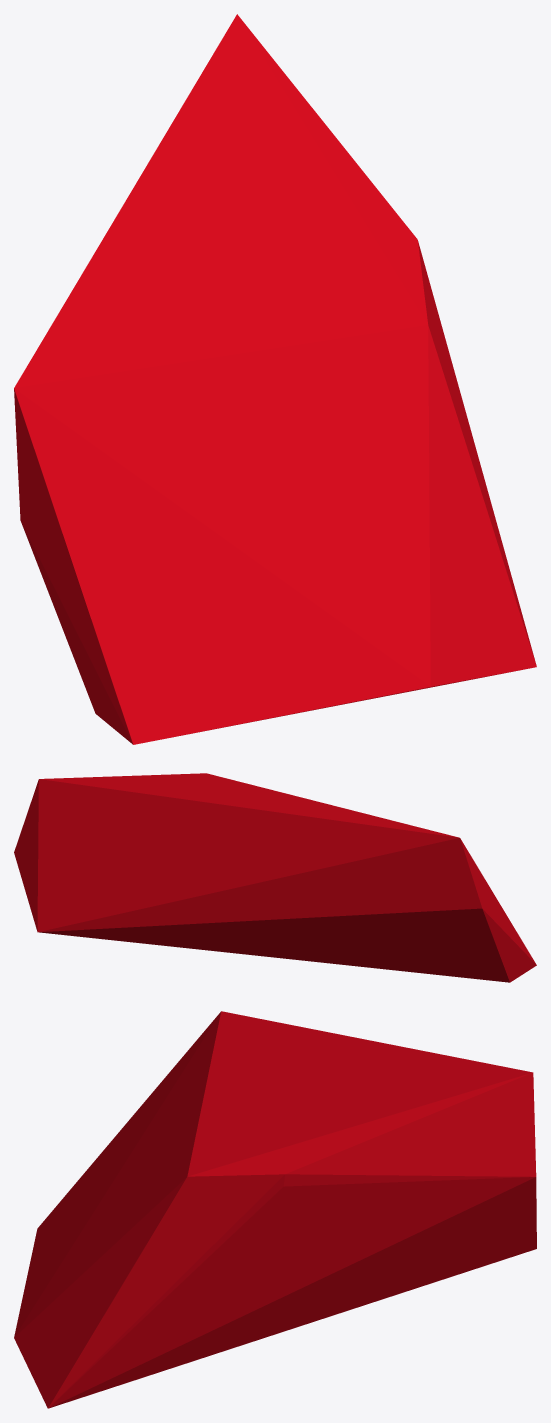
The model's file is arm-L1_convex_piece_004.obj.
3 renders of one model, top to bottom at view 1: azimuth 30°, elevation 25°; view 2: azimuth 150°, elevation 25°; view 3: azimuth 270°, elevation 25°, orthographic. The views are drawn at different scales.
Bounding box in the file's own units: 0.0204 × 0.0178 × 0.0249.
